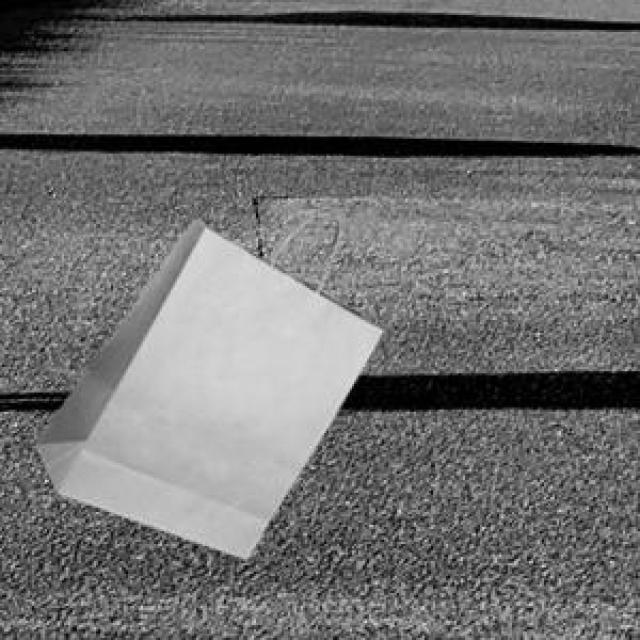paper: (32, 205, 378, 555)
